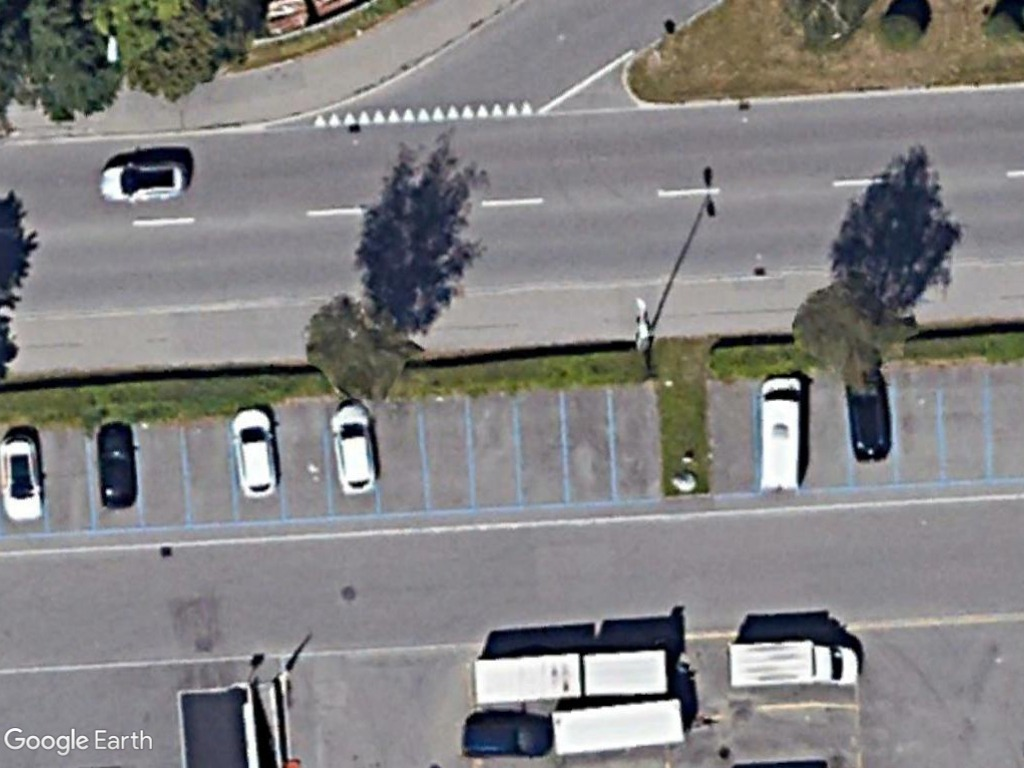car: (228, 402, 283, 501), (329, 399, 382, 495), (97, 155, 190, 205)
truck: (720, 636, 862, 689)
van: (754, 372, 803, 494)
